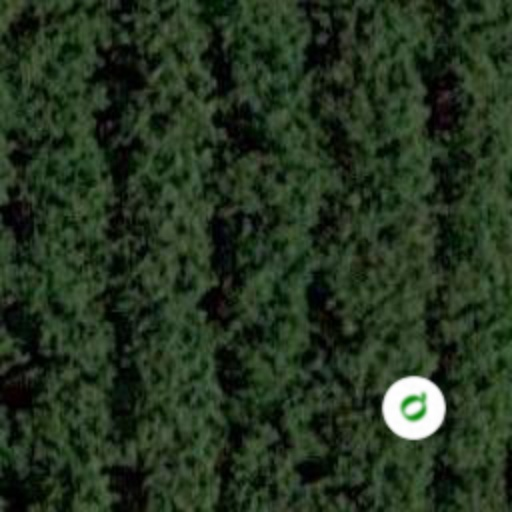circle: (370, 364, 458, 452)
